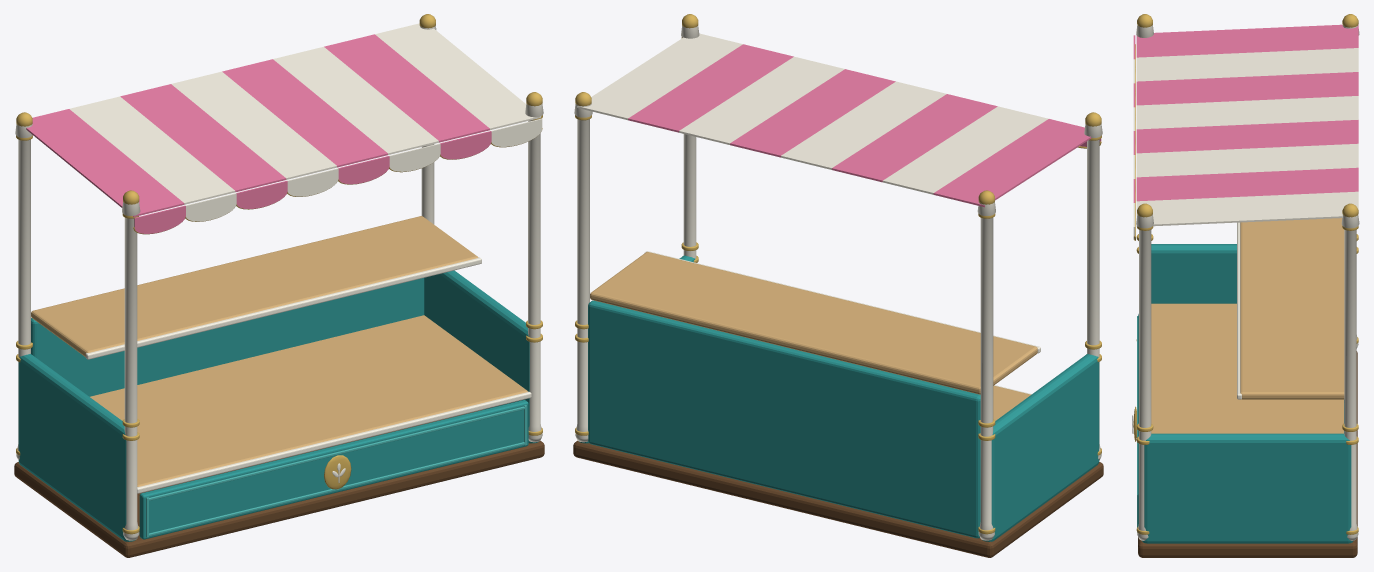
The model's file is awning_display.glb.
3 renders of one model, left to right at view 1: azimuth 30°, elevation 25°; view 2: azimuth 150°, elevation 25°; view 3: azimuth 270°, elevation 25°, orthographic. The views are drawn at different scales.
Parts seen in each view (by area): view 1: Wood_display_shelf, Wood_display_shelf.001, Panel, Closed_rear, Side_panel, Recessed_plinth, Side_panel.001, Canvas_stripe.001, Canvas_stripe.006, Canvas_stripe.002, Canvas_stripe.005, Canvas_stripe.003 (+20 smaller); view 2: Closed_rear, Wood_display_shelf.001, Side_panel, Recessed_plinth, Canvas_stripe.001, Canvas_stripe.002, Canvas_stripe.003, Canvas_stripe.006, Canvas_stripe.005, Canvas_stripe.004, Canvas_stripe, Canvas_stripe.007 (+5 smaller); view 3: Side_panel.001, Wood_display_shelf.001, Wood_display_shelf, Canvas_stripe.001, Canvas_stripe.002, Canvas_stripe.003, Canvas_stripe.004, Canvas_stripe.005, Canvas_stripe.006, Canvas_stripe, Canvas_stripe.007, Side_panel (+5 smaller).
Part boxes in pixels (x1,y1,x2,y2): Wood_display_shelf: (90, 315, 527, 486); Wood_display_shelf.001: (31, 216, 478, 356); Panel: (139, 400, 528, 539); Closed_rear: (31, 278, 424, 396); Side_panel: (18, 354, 135, 541); Recessed_plinth: (14, 409, 544, 557); Side_panel.001: (424, 270, 538, 443); Canvas_stripe.001: (69, 96, 235, 204); Canvas_stripe.006: (324, 34, 489, 142); Canvas_stripe.002: (120, 84, 286, 192); Canvas_stripe.005: (273, 46, 438, 154); Canvas_stripe.003: (171, 71, 336, 179); Closed_rear: (588, 300, 980, 538); Wood_display_shelf.001: (590, 252, 1037, 394); Side_panel: (982, 354, 1099, 541); Recessed_plinth: (573, 440, 1103, 557); Canvas_stripe.001: (882, 106, 1048, 194); Canvas_stripe.002: (832, 94, 997, 182); Canvas_stripe.003: (781, 81, 946, 169); Canvas_stripe.006: (628, 44, 793, 132); Canvas_stripe.005: (679, 56, 844, 144); Canvas_stripe.004: (730, 69, 895, 157); Canvas_stripe: (933, 119, 1091, 207); Canvas_stripe.007: (577, 33, 742, 120); Side_panel.001: (1142, 433, 1353, 543); Wood_display_shelf.001: (1240, 218, 1344, 399); Wood_display_shelf: (1151, 303, 1343, 433); Canvas_stripe.001: (1136, 48, 1358, 81); Canvas_stripe.002: (1136, 72, 1358, 105); Canvas_stripe.003: (1136, 96, 1358, 129); Canvas_stripe.004: (1136, 120, 1358, 153); Canvas_stripe.005: (1136, 143, 1358, 177); Canvas_stripe.006: (1136, 167, 1358, 201); Canvas_stripe: (1136, 24, 1358, 57); Canvas_stripe.007: (1136, 191, 1358, 226); Side_panel: (1151, 244, 1236, 303).
Bounding box in the file's own units: 1.98 × 1.64 × 0.9614.
